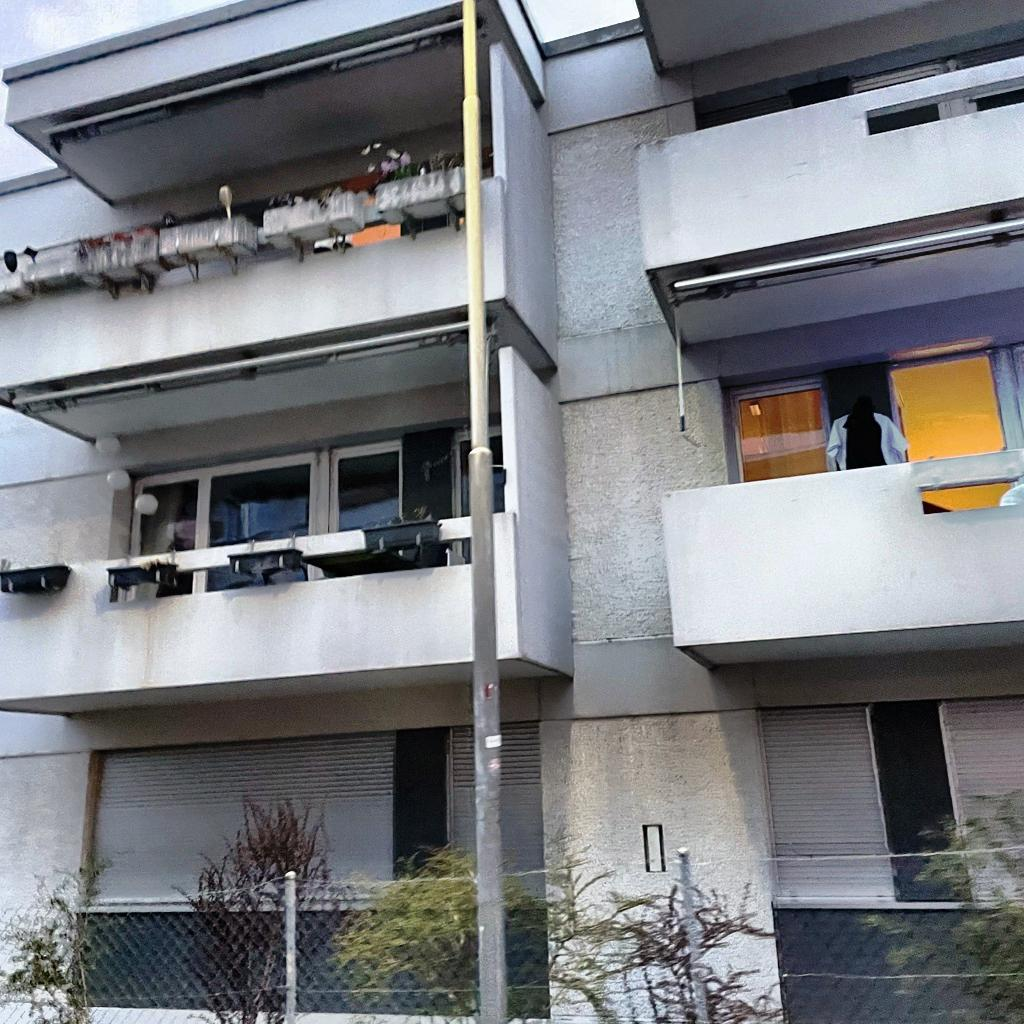facade: (0, 0, 1024, 1024)
fence: (0, 845, 1024, 1024)
vegetation: (169, 796, 791, 1024), (851, 777, 1024, 1024), (0, 849, 128, 1024), (357, 141, 464, 195)
window: (124, 421, 508, 600), (727, 347, 1015, 515), (865, 701, 961, 856)
